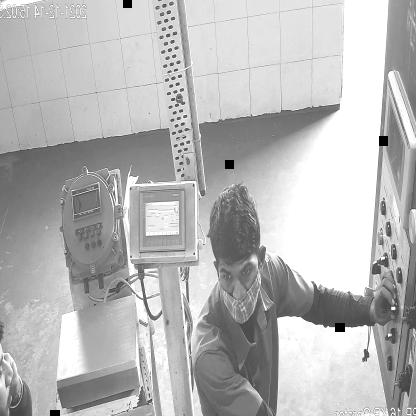no_goggles: (216, 260, 258, 290)
